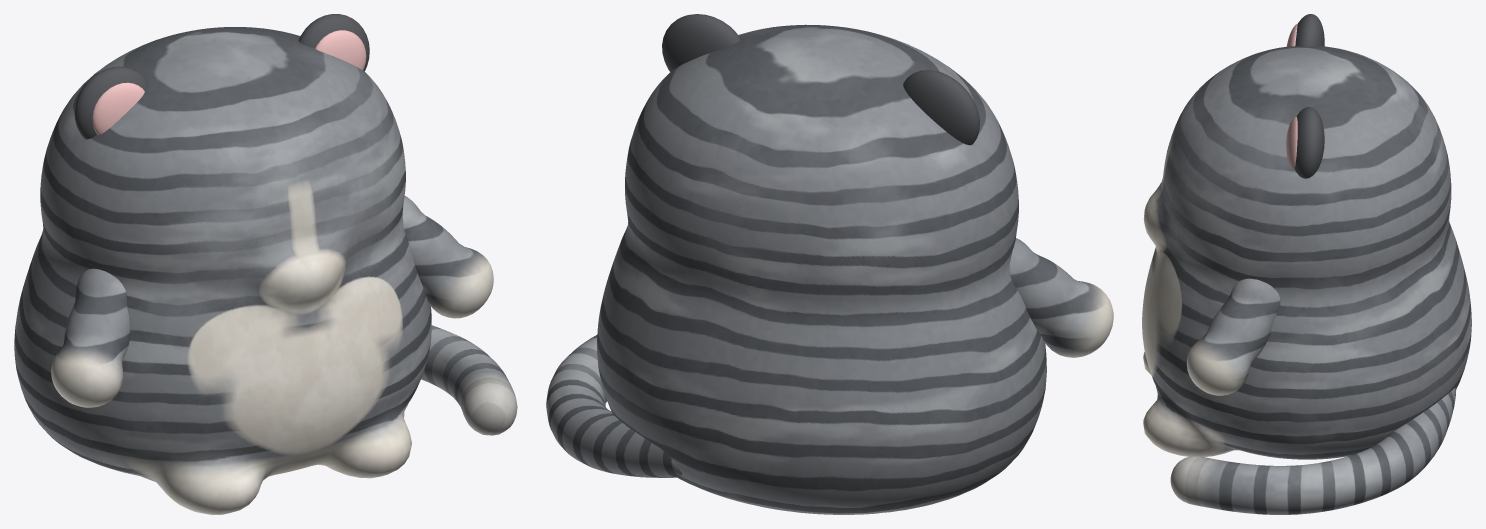
File: cat.glb
3 views of the same model, side by side, from view 1: azimuth 30°, elevation 25°; view 2: azimuth 150°, elevation 25°; view 3: azimuth 270°, elevation 25° (orthographic). The views are drawn at different scales.
Parts seen in each view (by area): view 1: CatBody, ArmL, ArmR, Tail, EarL, EarR; view 2: CatBody, Tail, ArmL, EarL, EarR; view 3: CatBody, Tail, ArmR, EarR, EarL.
Part boxes in pixels (x1,y1,x2,y2): CatBody: (14, 27, 431, 514); ArmL: (51, 268, 130, 407); ArmR: (402, 196, 493, 318); Tail: (421, 325, 517, 435); EarL: (74, 66, 147, 139); EarR: (298, 14, 369, 71); CatBody: (597, 24, 1046, 514); Tail: (546, 335, 681, 477); ArmL: (1009, 238, 1113, 357); EarL: (903, 70, 979, 145); EarR: (662, 14, 740, 71); CatBody: (1142, 46, 1471, 459); Tail: (1170, 387, 1456, 514); ArmR: (1186, 278, 1280, 395); EarR: (1286, 107, 1324, 178); EarL: (1286, 14, 1324, 46).
Bounding box in the file's own units: 2.46 × 2.02 × 1.7.
6 materials, 4 textured.
